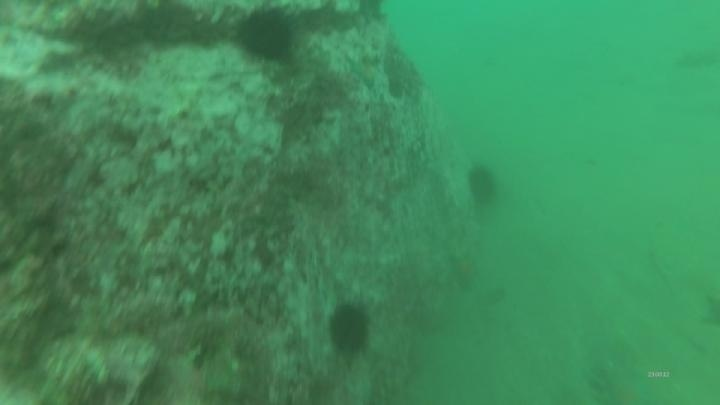echinus: (230, 4, 301, 66), (325, 299, 375, 359), (464, 162, 501, 208)
starfish: (152, 345, 235, 405), (344, 51, 386, 93), (443, 248, 483, 292)
